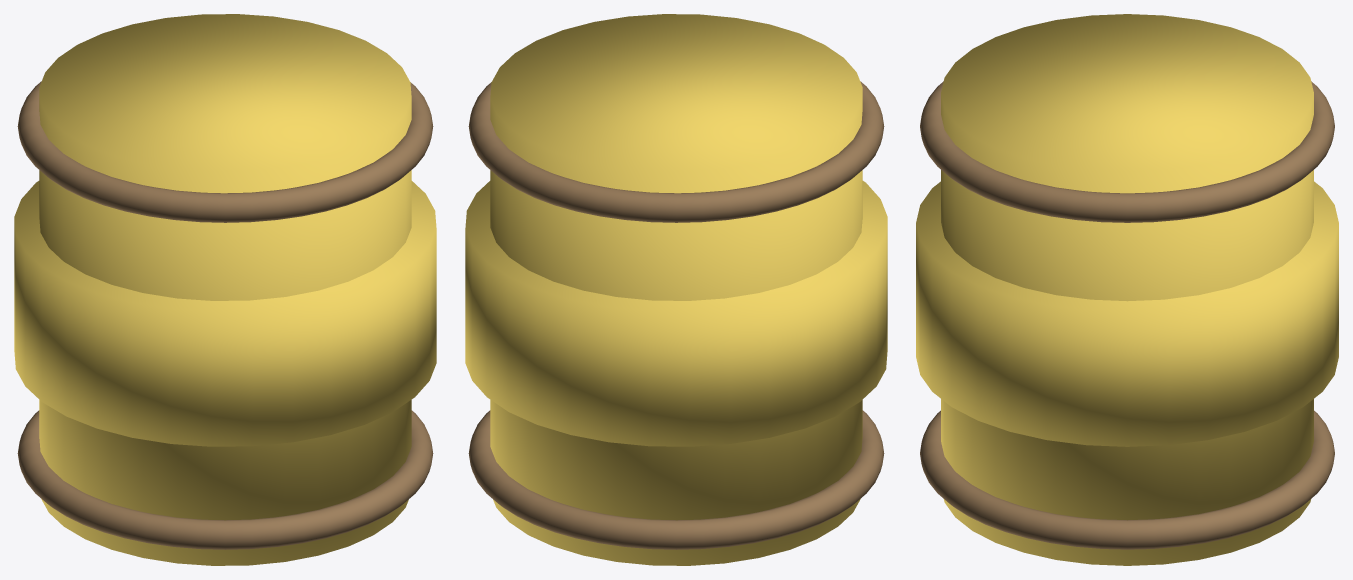
Rendered from mead.glb.
3 renders of one model, left to right at view 1: azimuth 30°, elevation 25°; view 2: azimuth 150°, elevation 25°; view 3: azimuth 270°, elevation 25°, orthographic.
Visible parts, largest first — view 1: MeadBarrel, BarrelBulge, BandTop, BandBottom; view 2: MeadBarrel, BarrelBulge, BandTop, BandBottom; view 3: MeadBarrel, BarrelBulge, BandTop, BandBottom.
Part boxes in pixels (x1,y1,x2,y2): MeadBarrel: [39, 14, 411, 565]; BarrelBulge: [14, 181, 436, 446]; BandTop: [17, 81, 433, 222]; BandBottom: [17, 410, 433, 549]; MeadBarrel: [490, 14, 862, 565]; BarrelBulge: [465, 181, 887, 446]; BandTop: [468, 81, 884, 222]; BandBottom: [468, 410, 884, 549]; MeadBarrel: [941, 14, 1313, 565]; BarrelBulge: [916, 181, 1338, 446]; BandTop: [920, 81, 1334, 222]; BandBottom: [920, 410, 1334, 549].
Bounding box in the file's own units: 0.34 × 0.35 × 0.34.
